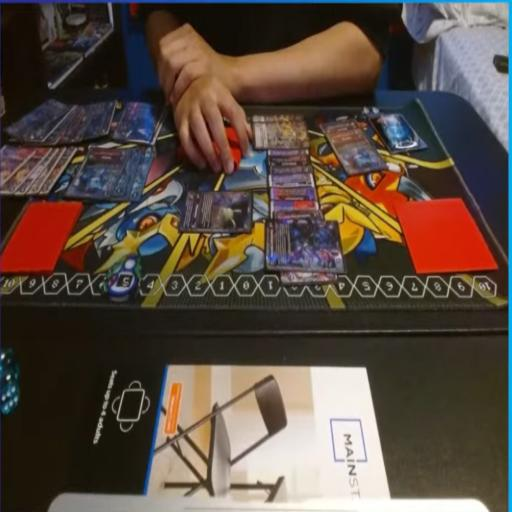card: (65, 147, 152, 200), (265, 217, 344, 273), (66, 147, 135, 200), (180, 191, 252, 232), (10, 95, 70, 141), (330, 128, 383, 176), (113, 101, 162, 144), (252, 116, 308, 149), (19, 148, 57, 196), (33, 146, 65, 192), (0, 144, 34, 185), (2, 153, 36, 193), (56, 97, 86, 142), (45, 147, 73, 195), (70, 100, 94, 148), (91, 94, 109, 142), (269, 170, 314, 187), (267, 150, 310, 166), (101, 96, 117, 136), (271, 201, 319, 214), (270, 187, 316, 200), (270, 164, 312, 176), (320, 120, 360, 132)
